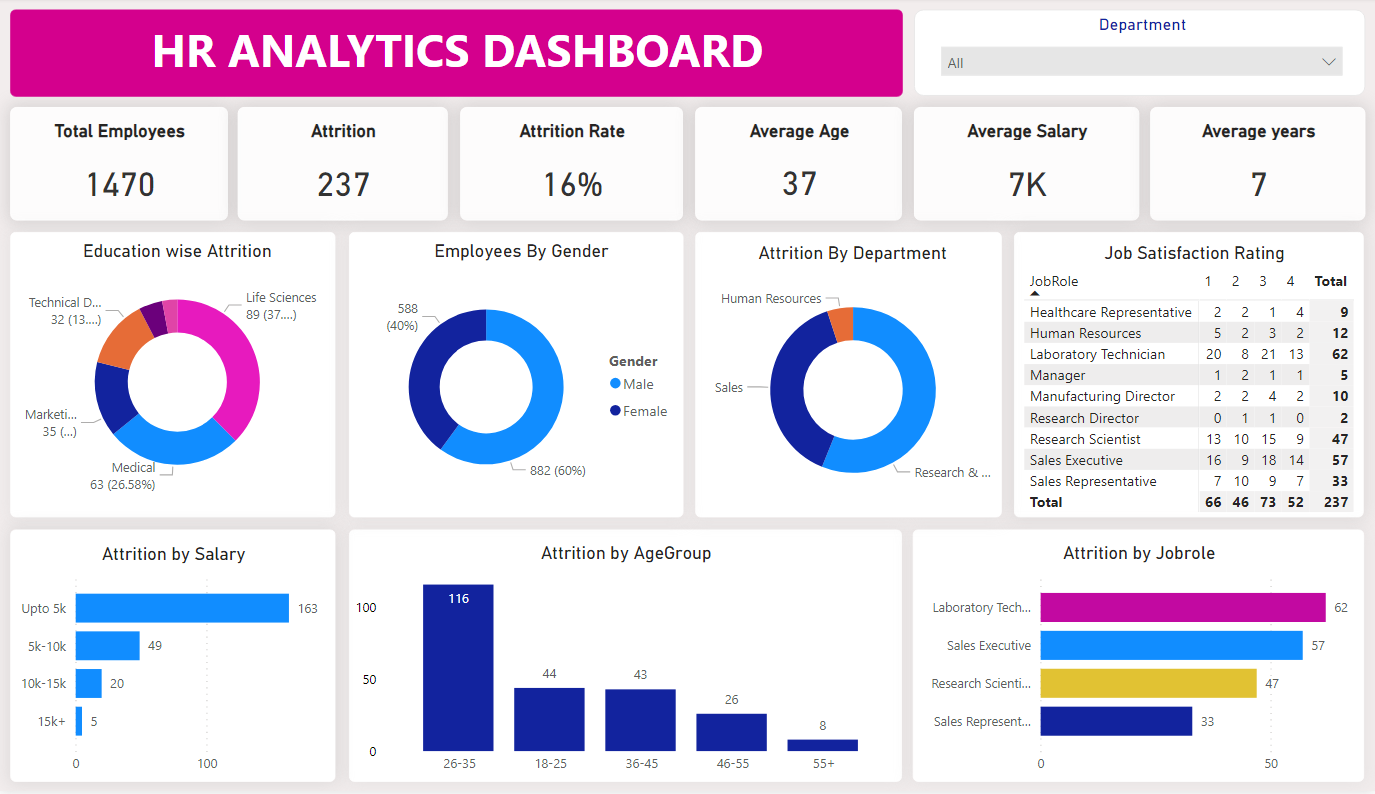

Layout of this report page (visuals, bound fields, positions):
{"tool":"powerbi","page":{"name":"Page 1","canvas":[1300,755],"ordinal":0},"visuals":[{"type":"card","title":"Total Employees","fields":{"Values":["CountNonNull(HR_Analytics.EmpID)"]},"box":[10.4,104.3,205.4,107.4],"z":0},{"type":"card","title":"Attrition","fields":{"Values":["Sum(HR_Analytics.Attrition Count)"]},"box":[225.2,104.3,198.1,107.4],"z":1000},{"type":"card","title":"Attrition Rate","fields":{"Values":["HR_Analytics.Attrition_rate"]},"box":[435.8,104.3,210,107.4],"z":2000},{"type":"card","title":"Average Age","fields":{"Values":["Avg(HR_Analytics.Age)"]},"box":[658,103.4,195.5,106.8],"z":3000},{"type":"card","title":"Average Salary","fields":{"Values":["Avg(HR_Analytics.MonthlyIncome)"]},"box":[864.5,103.9,212.6,107.5],"z":4000},{"type":"card","title":"Average years","fields":{"Values":["Avg(HR_Analytics.YearsAtCompany)"]},"box":[1087.5,104.3,203.3,107.4],"z":5000},{"type":"donutChart","title":"Education wise Attrition","fields":{"Category":["HR_Analytics.EducationField"],"Y":["Sum(HR_Analytics.Attrition Count)"]},"box":[10.6,222,307.1,269.3],"z":6000},{"type":"columnChart","title":"Attrition by AgeGroup","fields":{"Category":["HR_Analytics.AgeGroup"],"Y":["Sum(HR_Analytics.Attrition Count)"]},"box":[330.7,503.1,522,238.6],"z":8000},{"type":"pivotTable","title":"Job Satisfaction Rating","fields":{"Rows":["HR_Analytics.JobRole"],"Columns":["HR_Analytics.JobSatisfaction"],"Values":["Sum(HR_Analytics.Attrition Count)"]},"box":[959.1,221.6,330.7,269.3],"z":9000},{"type":"clusteredBarChart","title":"Attrition by Salary","fields":{"Category":["HR_Analytics.SalarySlab"],"Y":["Sum(HR_Analytics.Attrition Count)"]},"box":[10.6,503.1,307.1,238.6],"z":10000},{"type":"clusteredBarChart","title":"Attrition by Jobrole","fields":{"Y":["Sum(HR_Analytics.Attrition Count)"],"Category":["HR_Analytics.JobRole"]},"box":[863.3,503.1,426.3,238.6],"z":11000},{"type":"donutChart","title":"Attrition By Department","fields":{"Y":["Sum(HR_Analytics.Attrition Count)"],"Category":["HR_Analytics.Department"]},"box":[658,221.6,289.8,269.3],"z":12000},{"type":"donutChart","title":"Employees By Gender","fields":{"Y":["Sum(HR_Analytics.EmployeeCount)"],"Category":["HR_Analytics.Gender"]},"box":[330.7,221.6,315.9,269.3],"z":13000},{"type":"slicer","title":"Department","fields":{"Values":["HR_Analytics.Department"]},"box":[864.5,11.8,425.8,81.3],"z":14000},{"type":"textbox","box":[10.6,11.8,843.2,82],"z":15000}]}

Visuals, with their boxes in screenshot pixels (x1, y1, x2, y2), scaled from the page's 1300x755 canvas onto the 1375x794 screenshot:
"Total Employees" card: 11 110 228 223
"Attrition" card: 238 110 448 223
"Attrition Rate" card: 461 110 683 223
"Average Age" card: 696 109 903 221
"Average Salary" card: 914 109 1139 222
"Average years" card: 1150 110 1365 223
"Education wise Attrition" donutChart: 11 233 336 517
"Attrition by AgeGroup" columnChart: 350 529 902 780
"Job Satisfaction Rating" pivotTable: 1014 233 1364 516
"Attrition by Salary" clusteredBarChart: 11 529 336 780
"Attrition by Jobrole" clusteredBarChart: 913 529 1364 780
"Attrition By Department" donutChart: 696 233 1002 516
"Employees By Gender" donutChart: 350 233 684 516
"Department" slicer: 914 12 1365 98
textbox: 11 12 903 99
